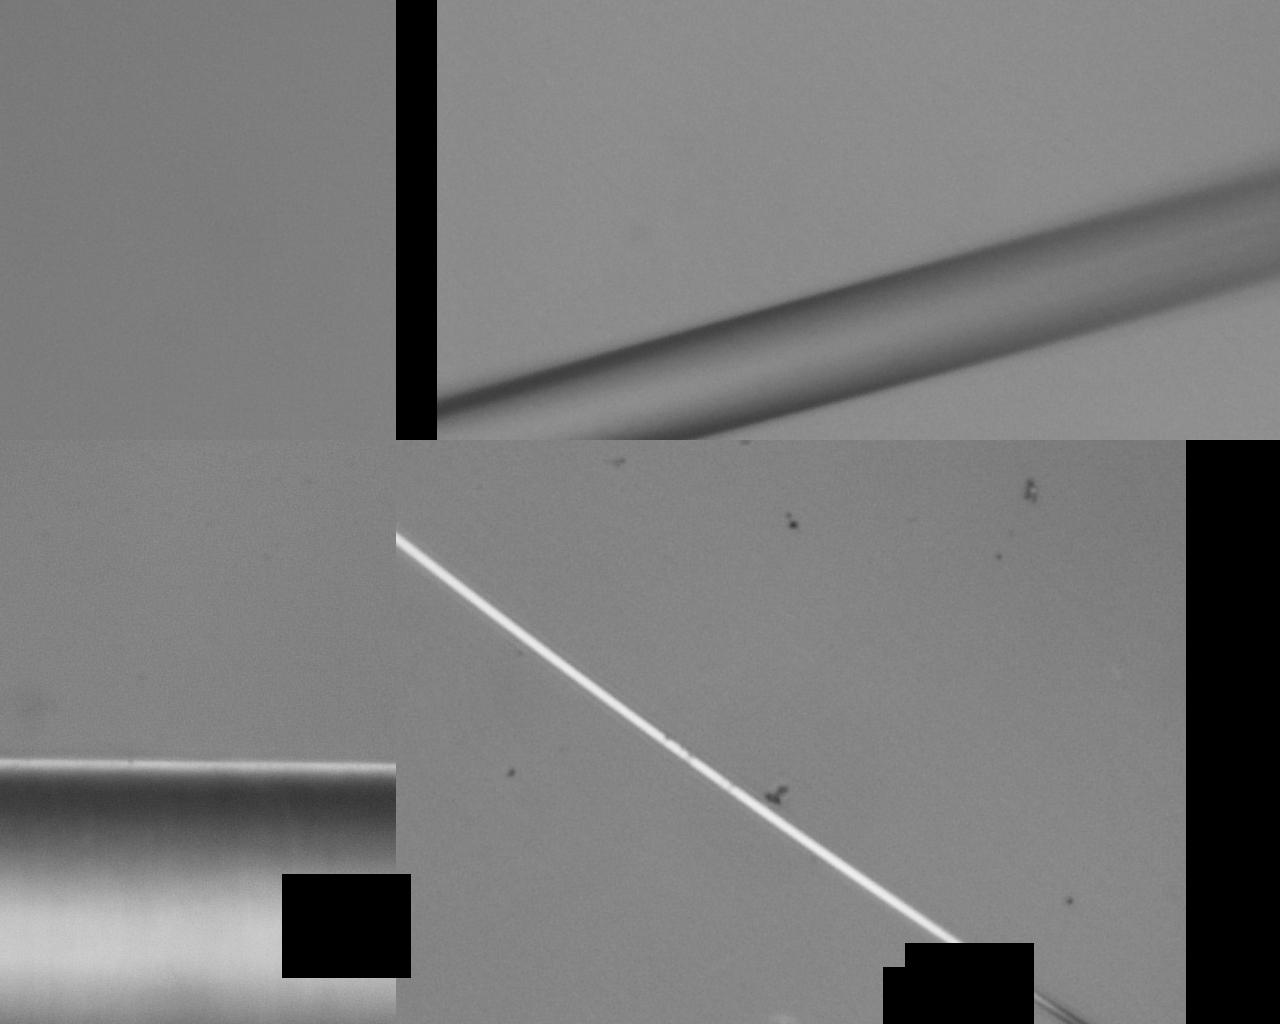fiber: (466, 368, 1280, 741), (0, 325, 384, 368)
